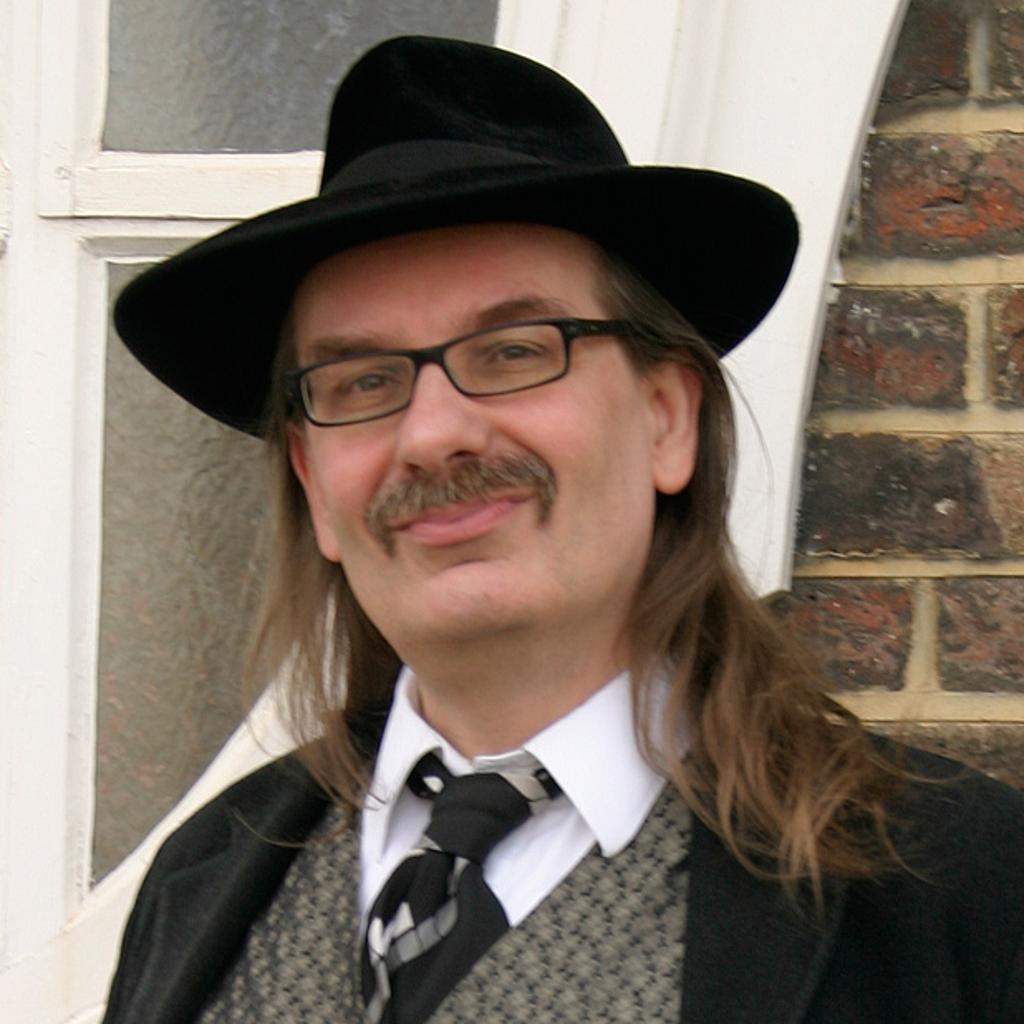face: (292, 218, 646, 636)
